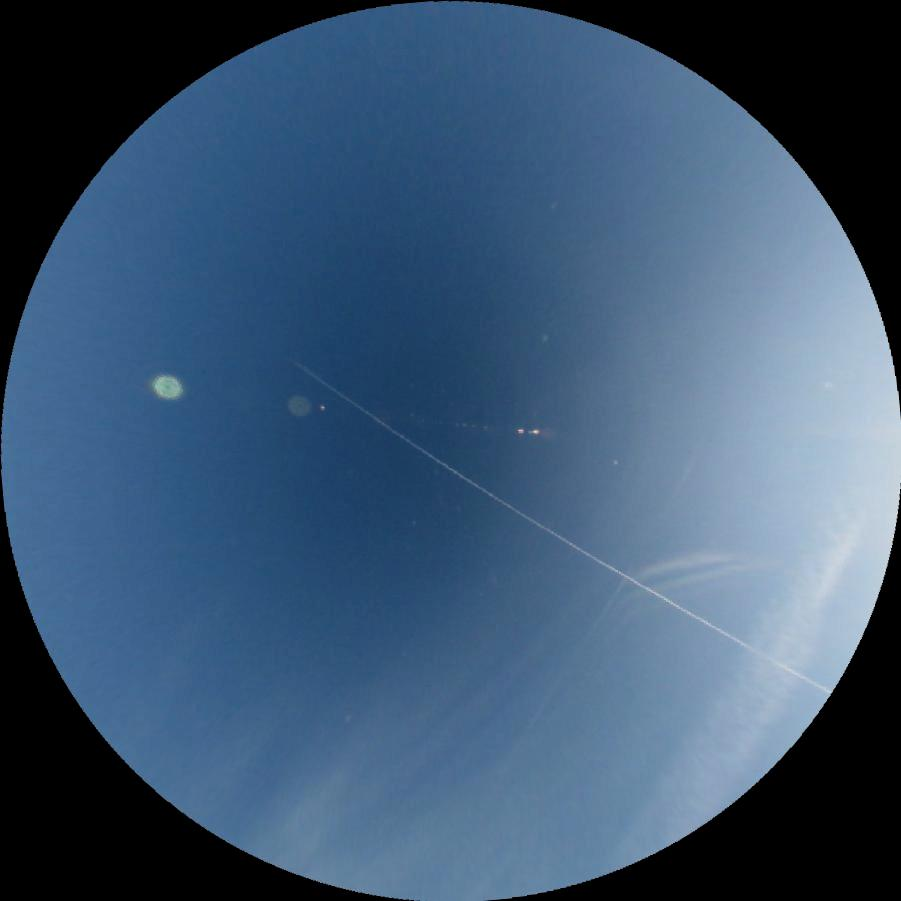contrail young: (285, 359, 832, 702), (527, 426, 712, 728)
parasite: (620, 542, 740, 588)
